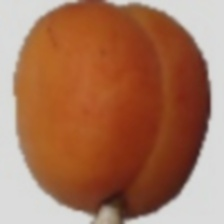apricot: (21, 43, 180, 193)
